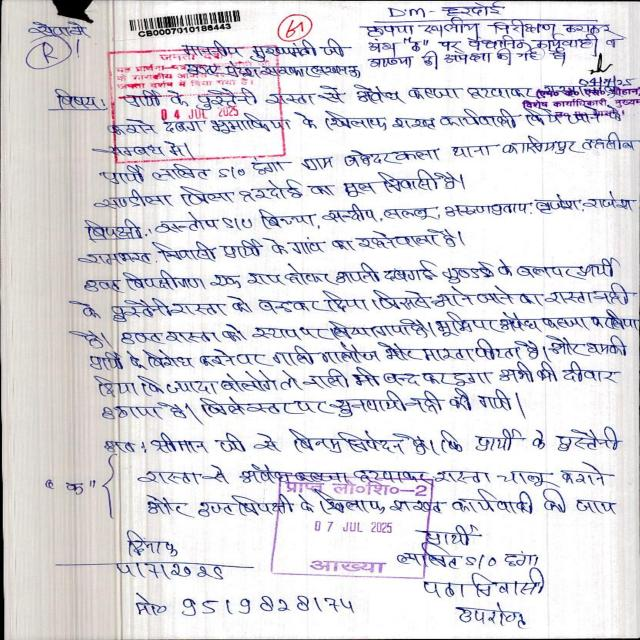antritgovtstamp: (272, 476, 434, 580)
barcode: (123, 8, 246, 41)
jantadarsan: (106, 45, 290, 160)
signnamestamp: (520, 48, 640, 122)
